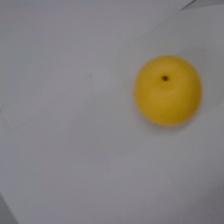yellow: (132, 52, 203, 130)
